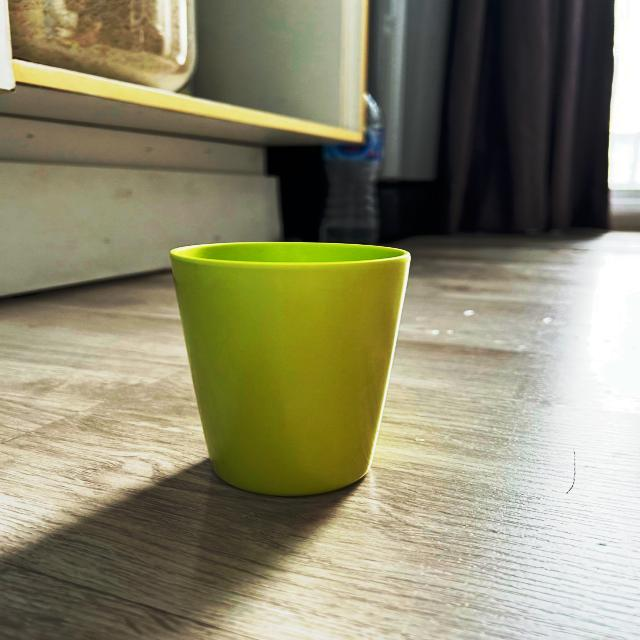WaterGlass: (171, 243, 410, 496)
